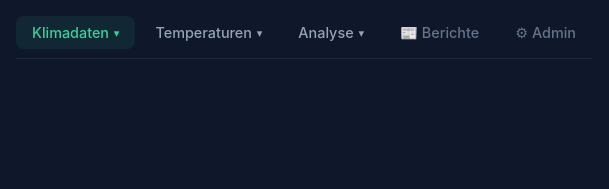
NavBar › öffnet Temperatur-Dropdown
The width and height of the screenshot is (609, 189).
Hover over the text "Temperaturen".
mouse_move(209, 32)  # box [140,16,278,49]
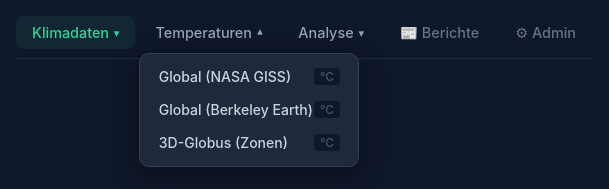
Check: the text "Global (NASA GISS)" is shown, box [159,68,291,85]
